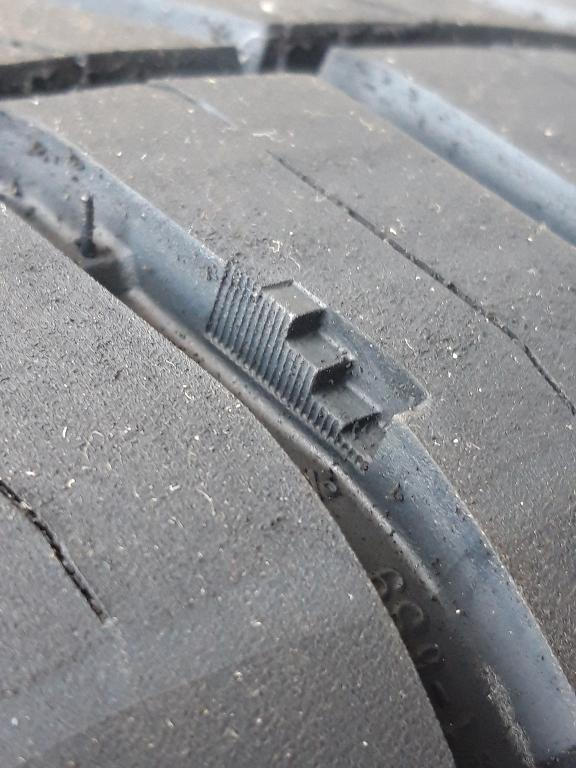temoin:75: (244, 275, 440, 478)
